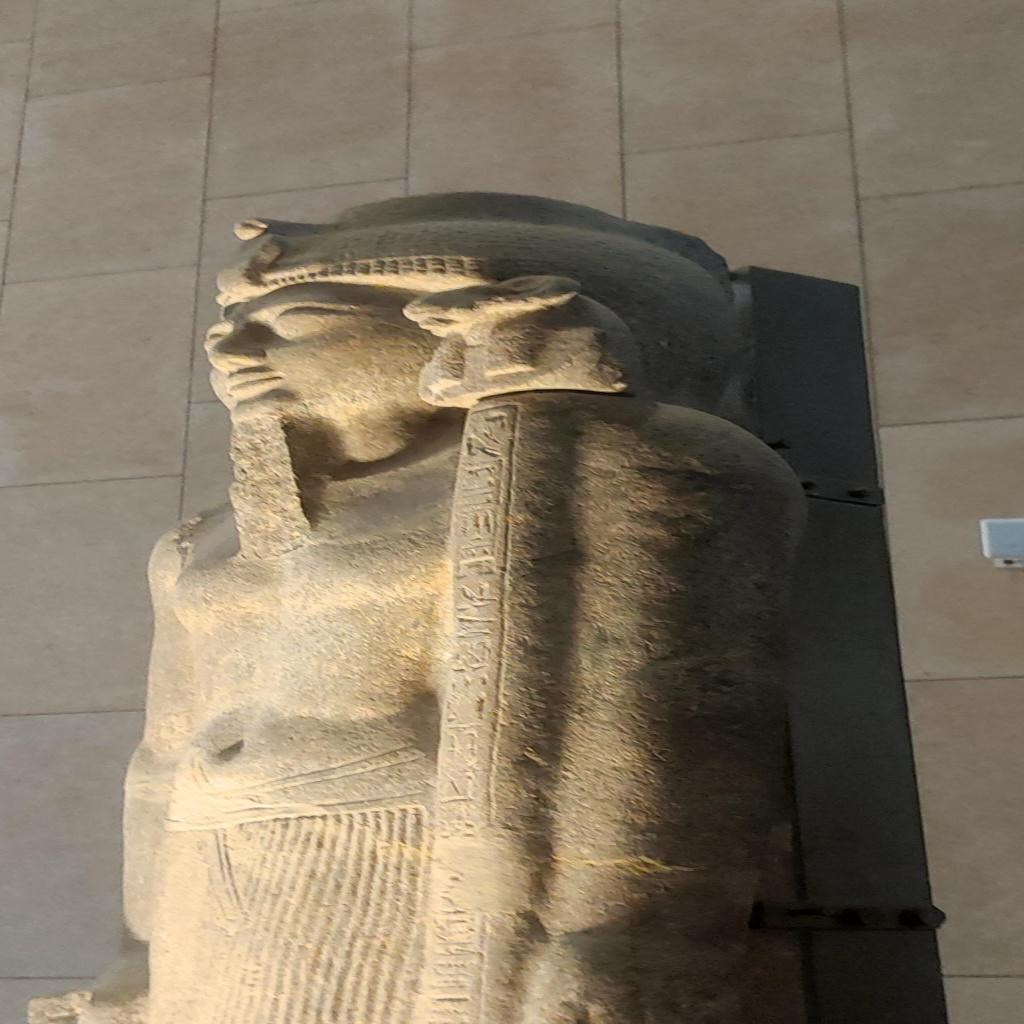Statue of Ramesses III as standard Bearer: (104, 188, 900, 1022)
